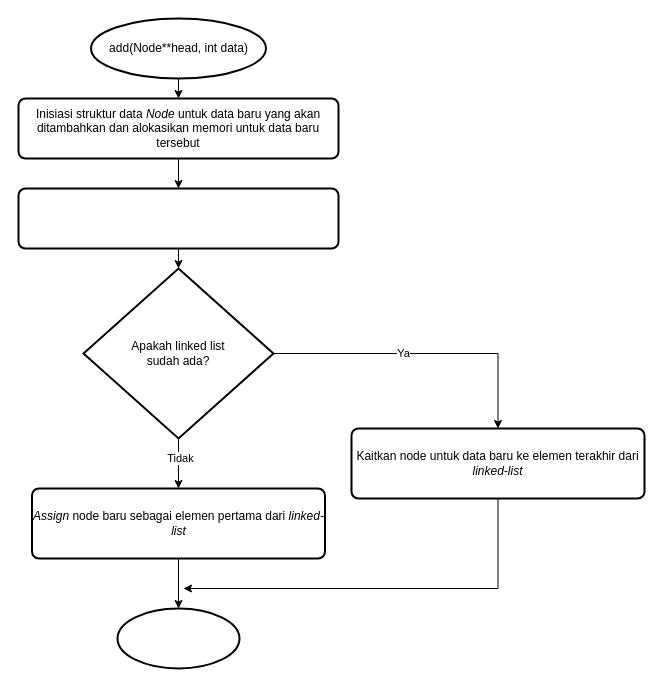
Some shapes in this 662 by 686 pixel diagram are drawn without their labels. The shapes that lost their labels are listed below. From the top down, each one's box as (x1, y1, x2, y2) in pixels, then its label:
(17, 187, 339, 249): Assign data yang dimasukkan oleh pengguna ke dalam struktur data Node
(116, 607, 240, 669): return
